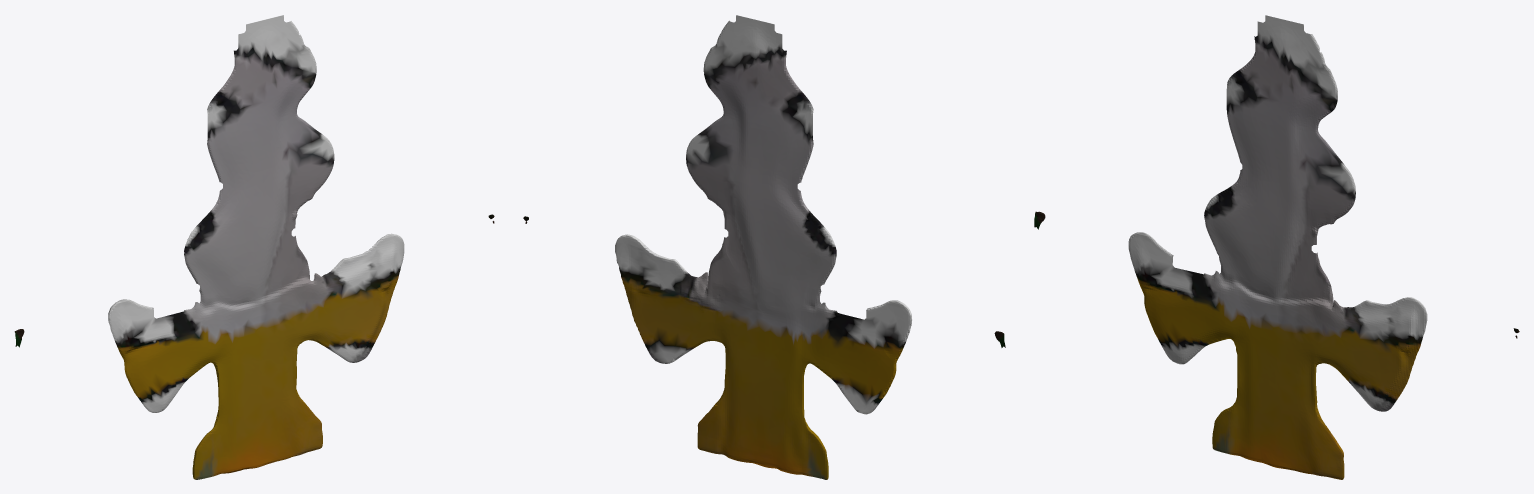
Rendered from k_dagger.glb.
3 renders of one model, left to right at view 1: azimuth 30°, elevation 25°; view 2: azimuth 150°, elevation 25°; view 3: azimuth 330°, elevation 25°, orthographic.
Parts seen in each view (by area): view 1: geometry_0; view 2: geometry_0; view 3: geometry_0.
Part boxes in pixels (x1,y1,x2,y2): geometry_0: (14,15,494,479); geometry_0: (523,15,1005,479); geometry_0: (1034,15,1519,479).
Size of the model in its own units: 0.5938 by 0.5269 by 0.0114.
